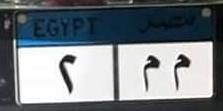2: (55, 51, 82, 97)
meem: (139, 52, 163, 93), (171, 51, 192, 92)
